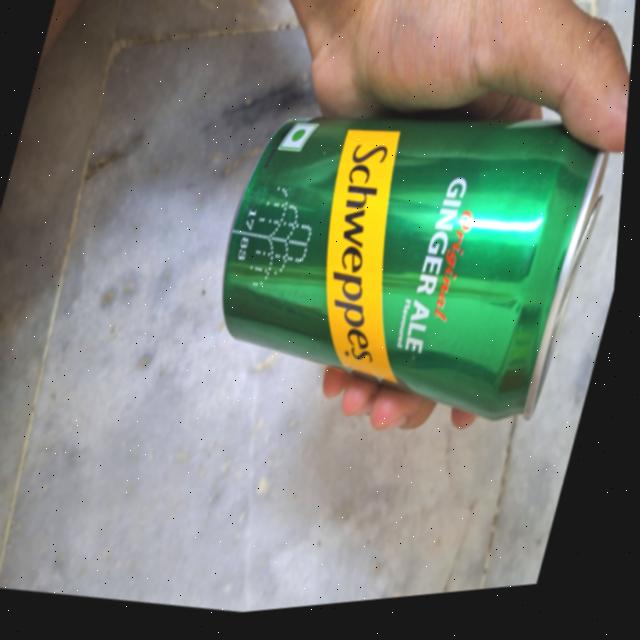Schweppes: (185, 72, 624, 453)
